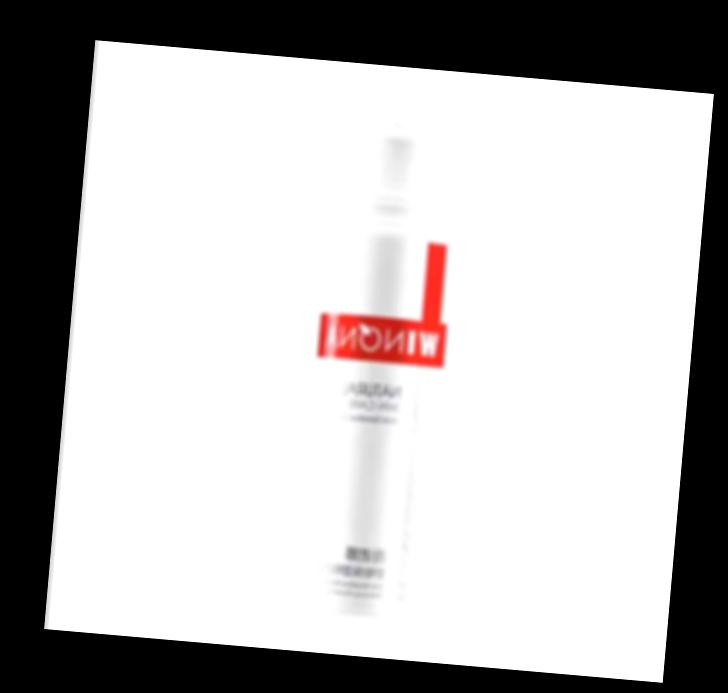cosmetic: (292, 90, 469, 623)
